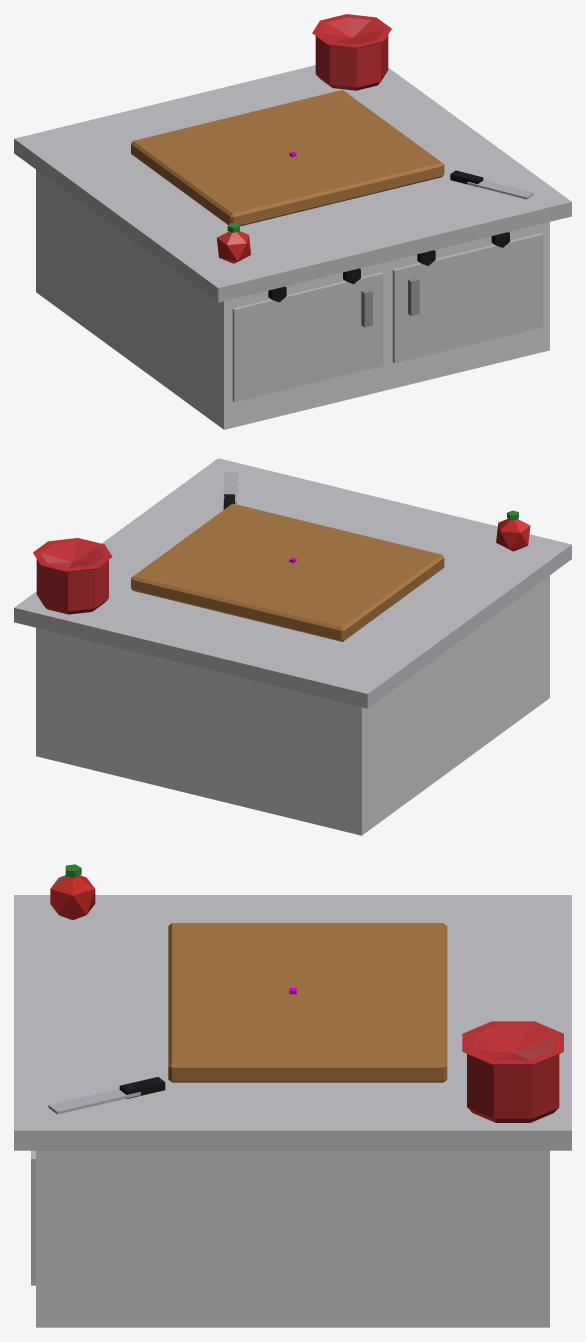
Rendered from Platform_ChefShiba.fbx.
3 renders of one model, top to bottom at view 1: azimuth 30°, elevation 25°; view 2: azimuth 150°, elevation 25°; view 3: azimuth 270°, elevation 25°, orthographic. The views are drawn at different scales.
Parts seen in each view (by area): view 1: Body; view 2: Body; view 3: Body.
Boxes of the visible parts, bbox=[...] form: Body: bbox=[14, 14, 571, 429]; Body: bbox=[14, 458, 571, 835]; Body: bbox=[14, 864, 571, 1327].
Size of the model in its own units: 7.6 by 4.05 by 7.6.
